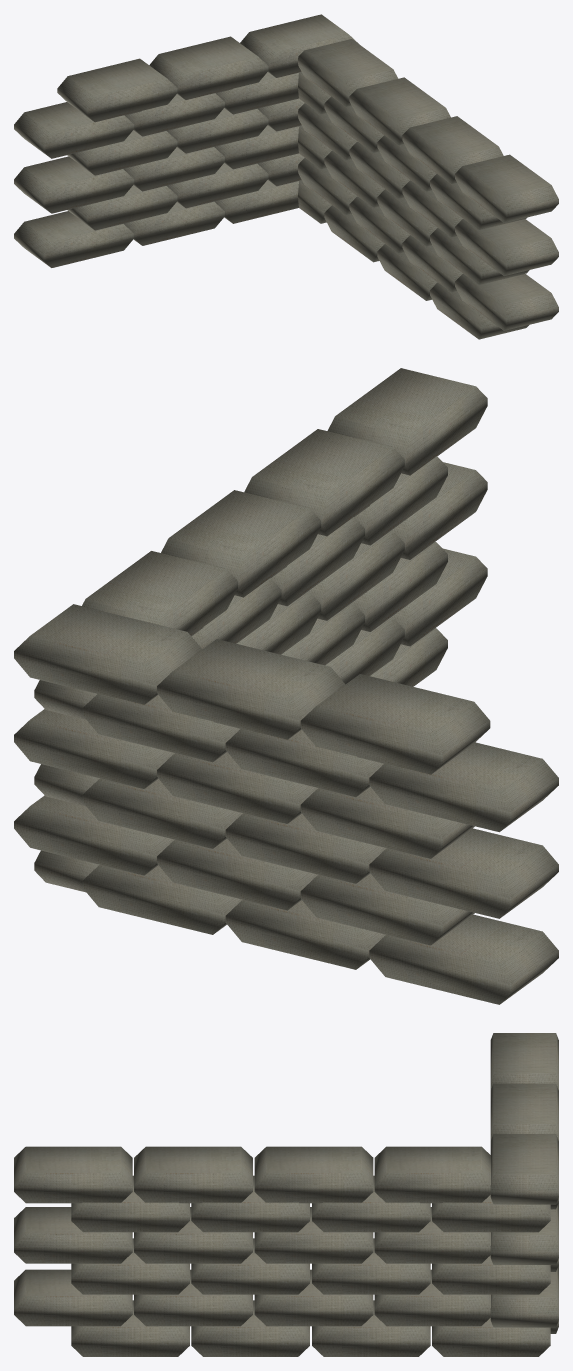
The model's file is sandbag_wall.glb.
3 views of the same model, one above another, from view 1: azimuth 30°, elevation 25°; view 2: azimuth 150°, elevation 25°; view 3: azimuth 270°, elevation 25° (orthographic). The views are drawn at different scales.
Visible parts, largest first — view 1: Box003; view 2: Box003; view 3: Box003.
Part boxes in pixels (x1,y1,x2,y2): Box003: [14, 14, 558, 339]; Box003: [14, 368, 558, 1004]; Box003: [14, 1033, 558, 1356].
Bounding box in the file's own units: 73.74 × 36.08 × 96.83.
1 material, 1 textured.
